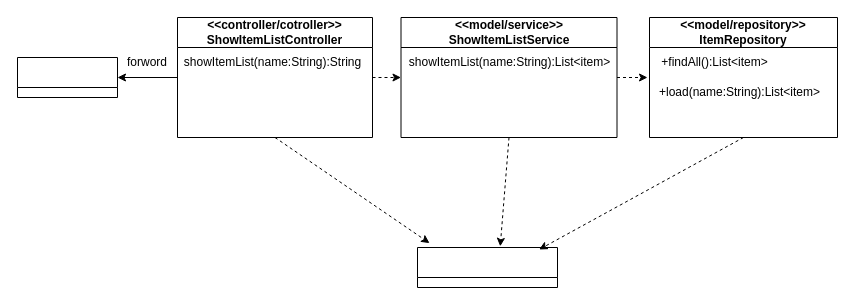
The diagram is 855 pixels wide and 305 high, and some of its shapes have lost their labels. Here are the shapes that lost their labels. From the top down, the centre of each, then its label:
pixel 67 77: <<view>> item_list.html
pixel 487 267: <domain> Item
